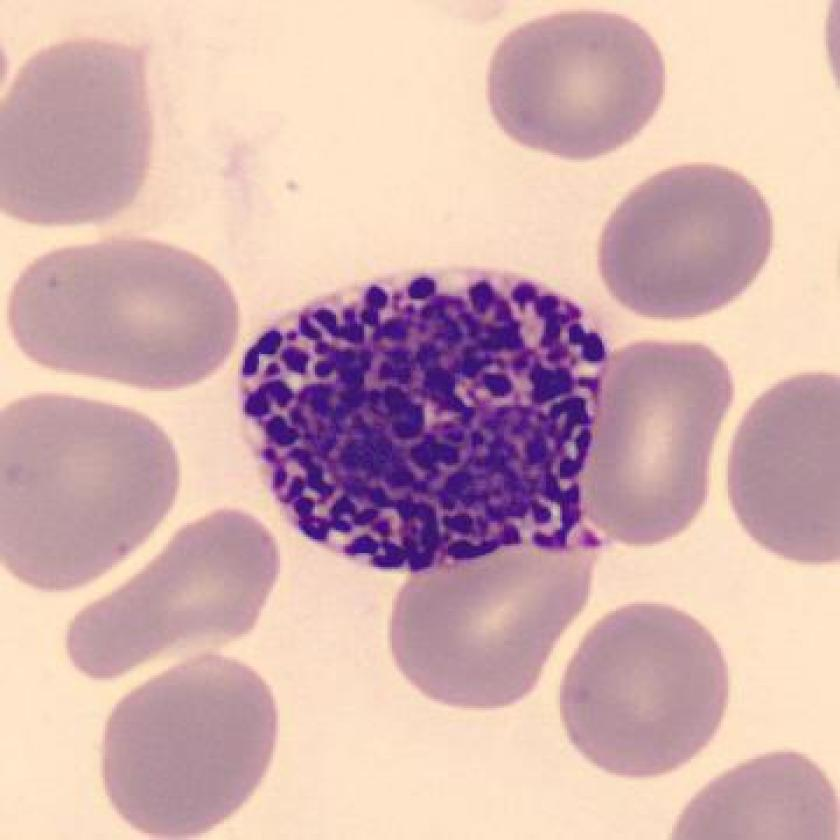basophil: (234, 272, 615, 575)
